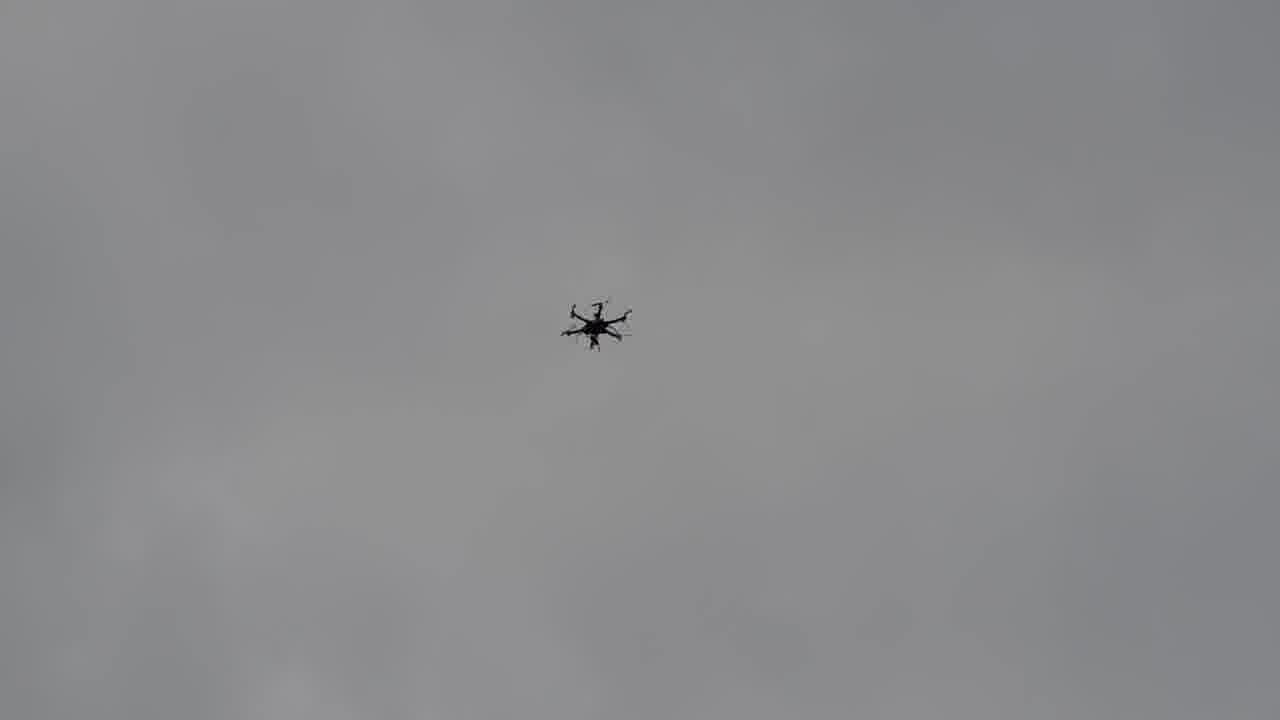drone: (565, 297, 637, 351)
